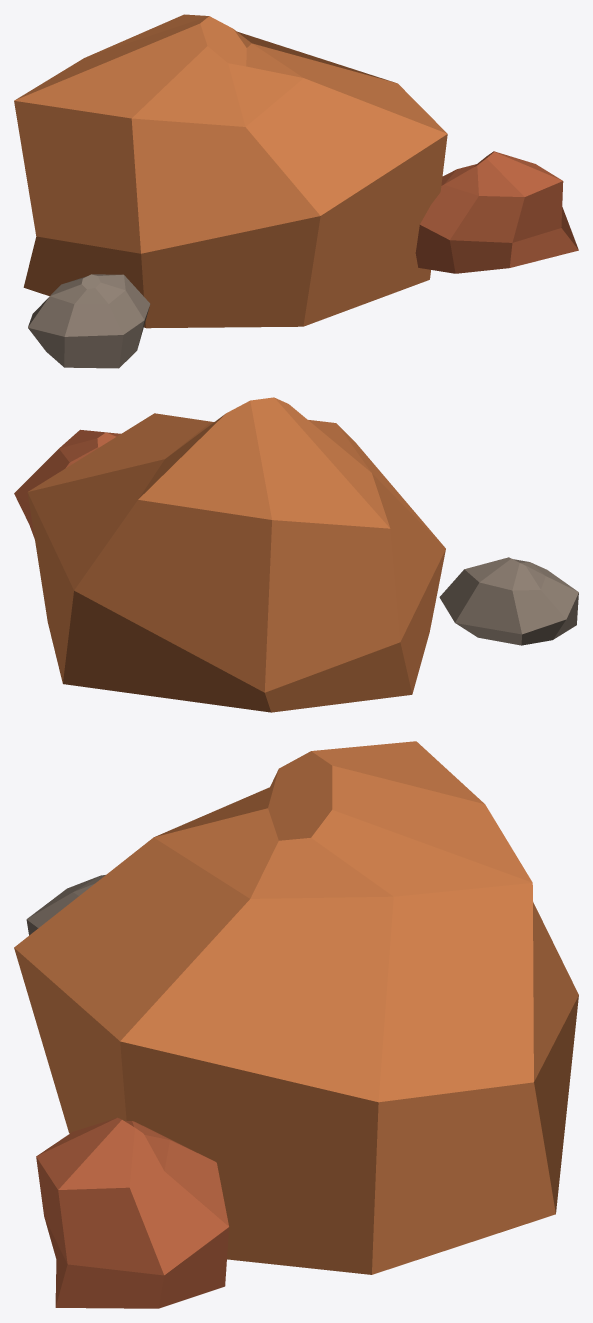
File: SM_RockCluster_A.fbx
3 views of the same model, one above another, from view 1: azimuth 30°, elevation 25°; view 2: azimuth 150°, elevation 25°; view 3: azimuth 270°, elevation 25° (orthographic). The views are drawn at different scales.
Parts seen in each view (by area): view 1: RockCluster_A; view 2: RockCluster_A; view 3: RockCluster_A.
Boxes of the visible parts, x1,y1,x2,y2 form: RockCluster_A: (14,14,578,368); RockCluster_A: (14,397,578,712); RockCluster_A: (14,741,578,1308).
Bounding box in the file's own units: 435 × 269 × 198.
